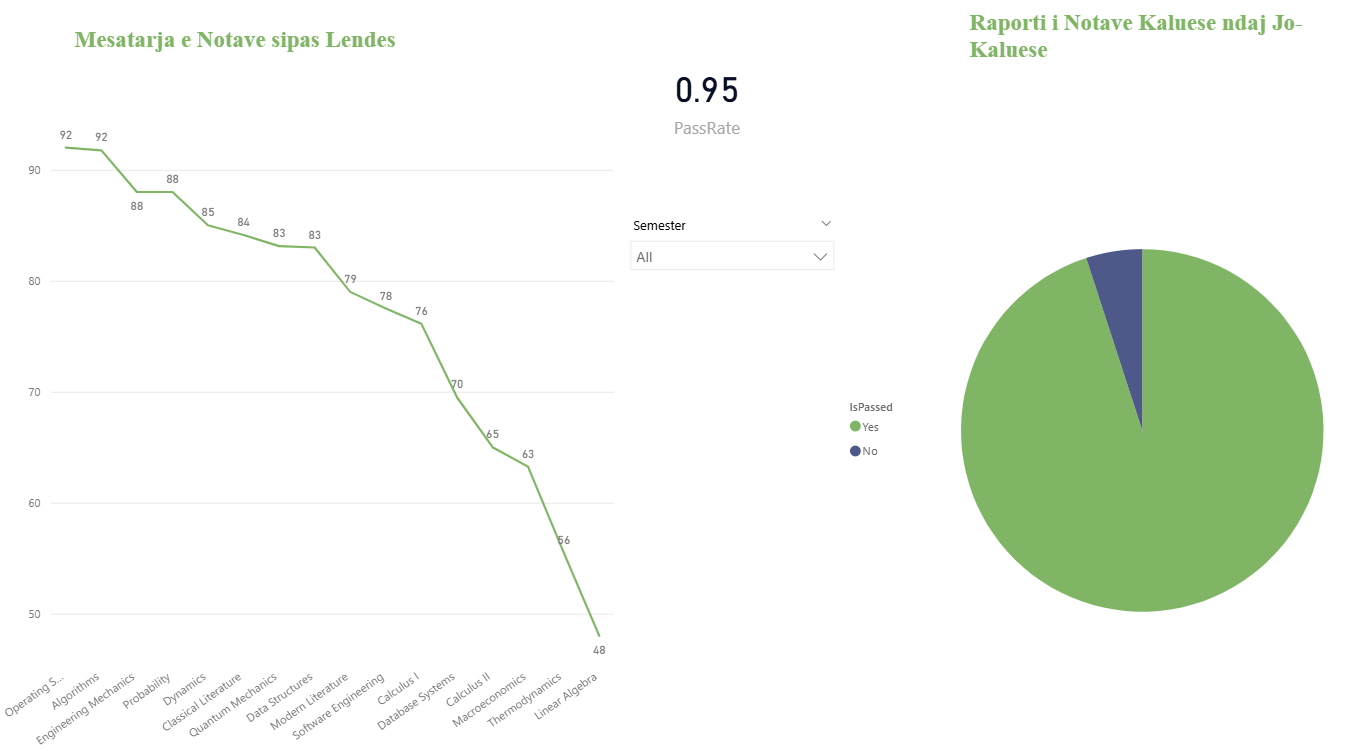

This screenshot's page, from the dashboard's own definition file:
{"tool":"powerbi","page":{"name":"Page 1","canvas":[1280,720],"ordinal":0},"visuals":[{"type":"lineChart","fields":{"Category":["Courses.CourseName"],"Y":["Grades.AverageGrade"]},"box":[0,104.3,577.7,616.1],"z":0},{"type":"pieChart","fields":{"Category":["Grades.IsPassed"],"Y":["CountNonNull(Grades.GradeID)"]},"box":[787.7,104.3,492.6,616.1],"z":1000},{"type":"card","fields":{"Values":["Grades.PassRate"]},"box":[473.4,0,373.2,208.6],"z":2000},{"type":"slicer","fields":{"Values":["Grades.Semester"]},"box":[577.7,208.6,209.9,107],"z":3000},{"type":"textbox","box":[578,316,210,404],"z":4000},{"type":"textbox","box":[65.9,31.6,312.9,72.7],"z":5000},{"type":"textbox","box":[100,100,300,300],"z":5001},{"type":"textbox","box":[898.8,16.5,363.6,87.8],"z":5002}]}

Visuals, with their boxes in screenshot pixels (x1, y1, x2, y2), scaled from the page's 1280x720 canvas onto the 1358x751 screenshot:
lineChart - Courses.CourseName x Grades.AverageGrade: bbox=[0, 109, 613, 750]
pieChart - Grades.IsPassed x CountNonNull(Grades.GradeID): bbox=[836, 109, 1357, 750]
card - Grades.PassRate: bbox=[502, 0, 898, 218]
slicer - Grades.Semester: bbox=[613, 218, 836, 329]
textbox: bbox=[613, 330, 836, 750]
textbox: bbox=[70, 33, 402, 109]
textbox: bbox=[106, 104, 424, 417]
textbox: bbox=[954, 17, 1339, 109]
